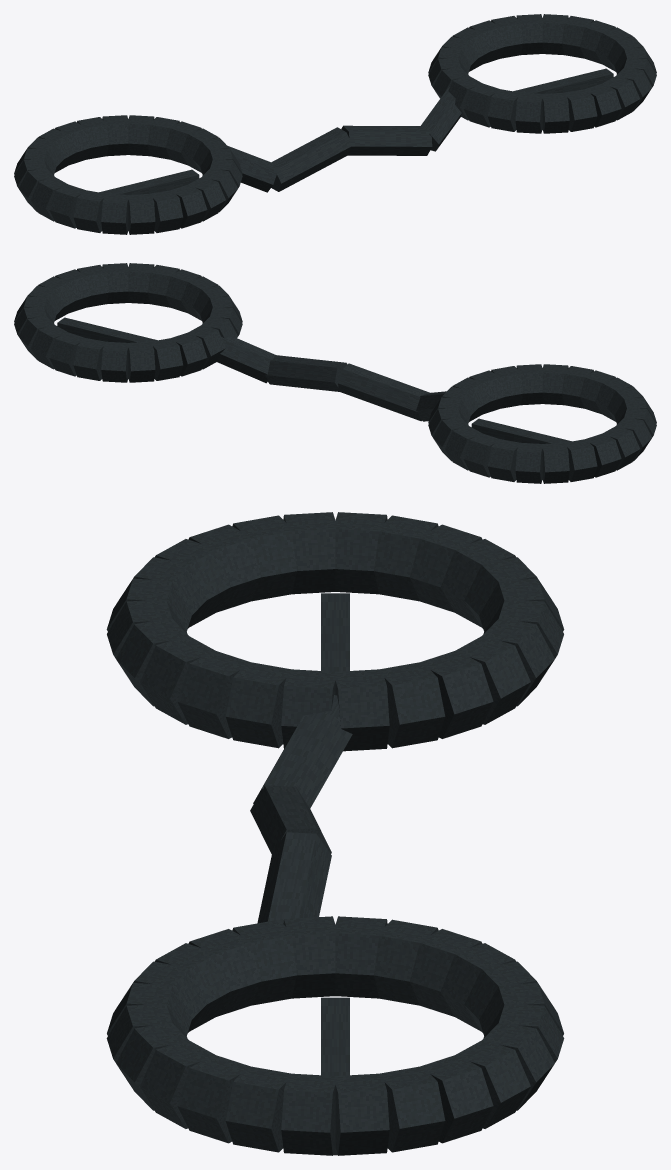
File: SM_shackles.gltf
3 renders of one model, top to bottom at view 1: azimuth 30°, elevation 25°; view 2: azimuth 150°, elevation 25°; view 3: azimuth 270°, elevation 25°, orthographic. The views are drawn at different scales.
Parts seen in each view (by area): view 1: root; view 2: root; view 3: root.
Part boxes in pixels (<box>): root: <box>14,14,656,234</box>; root: <box>14,263,656,483</box>; root: <box>106,512,564,1155</box>.
Size of the model in its own units: 1.27 by 0.1042 by 0.4114.
1 material, 1 textured.
